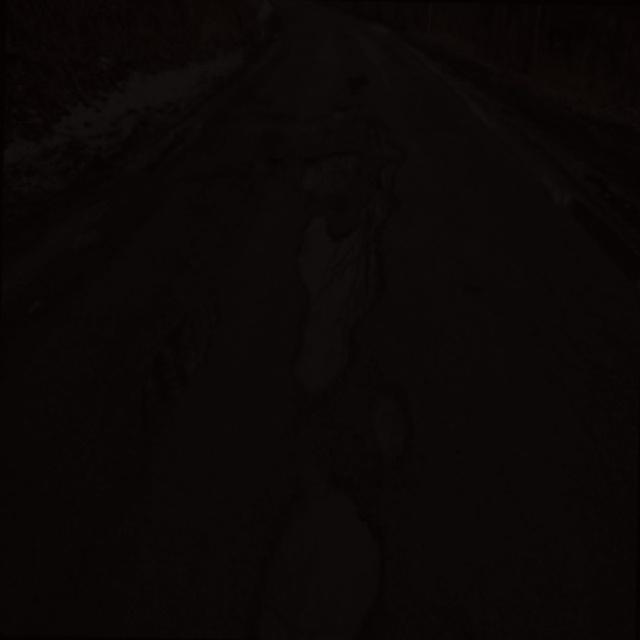Pothole: (235, 463, 386, 640), (283, 204, 391, 389), (130, 274, 234, 416), (365, 376, 420, 470), (302, 135, 356, 206), (369, 123, 405, 215), (338, 62, 382, 120)
